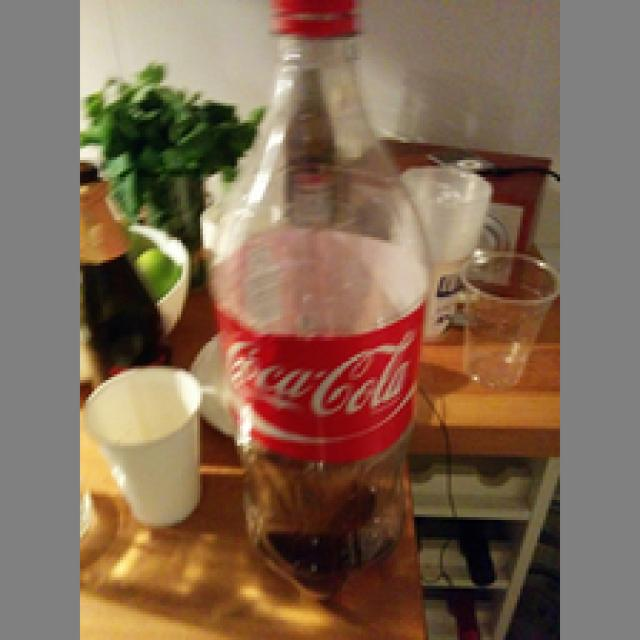groceries: (203, 0, 431, 597)
